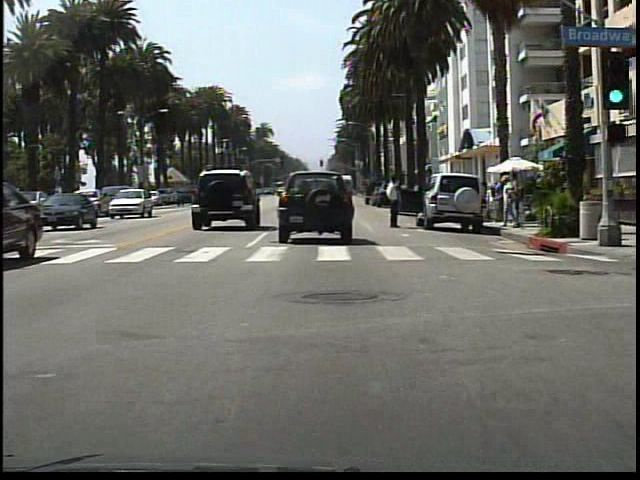person: (379, 171, 405, 232)
